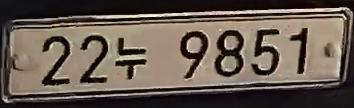1: (284, 25, 316, 79)
2: (36, 32, 75, 89), (76, 32, 112, 88)
5: (247, 26, 284, 78)
8: (212, 26, 247, 81)
9: (173, 27, 211, 84)
누: (111, 32, 150, 83)
